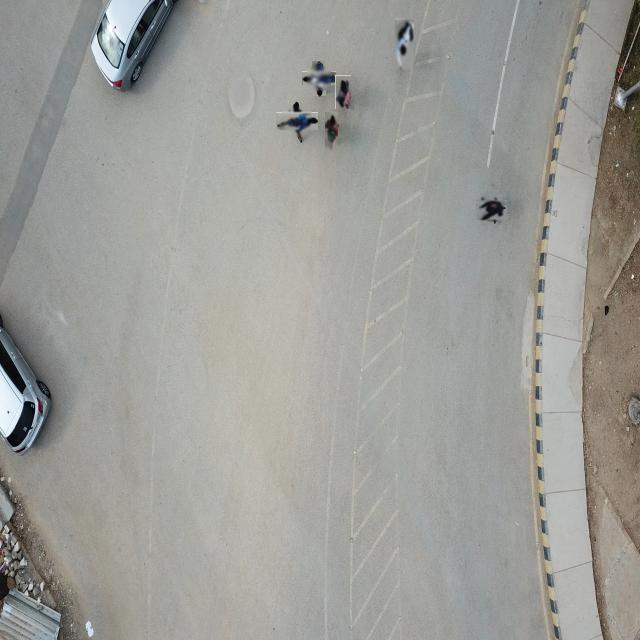Manusia: (395, 18, 415, 71), (282, 106, 313, 138), (479, 197, 505, 223), (307, 66, 332, 92), (335, 75, 352, 110), (325, 112, 339, 150)
